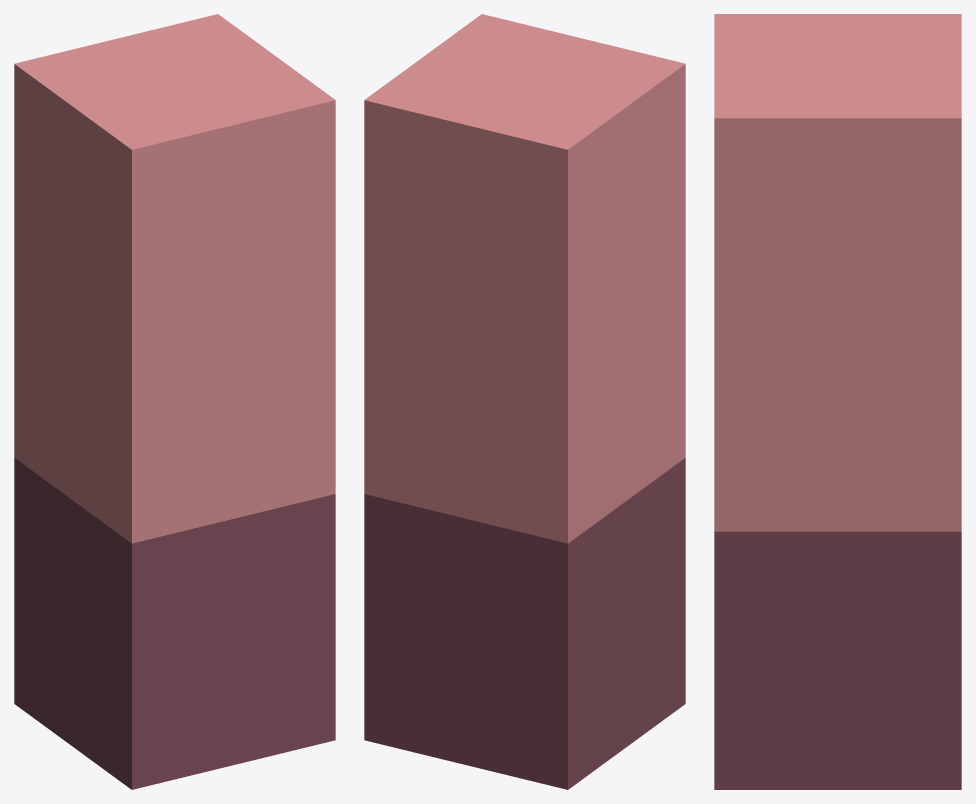
The model's file is Res01_Kitchen_Pillar.fbx.
3 renders of one model, left to right at view 1: azimuth 30°, elevation 25°; view 2: azimuth 150°, elevation 25°; view 3: azimuth 270°, elevation 25°, orthographic. The views are drawn at different scales.
Parts seen in each view (by area): view 1: Res01_Kitchen_Pillar; view 2: Res01_Kitchen_Pillar; view 3: Res01_Kitchen_Pillar.
Boxes of the visible parts, x1,y1,x2,y2 form: Res01_Kitchen_Pillar: (14, 14, 335, 789); Res01_Kitchen_Pillar: (364, 14, 685, 789); Res01_Kitchen_Pillar: (714, 14, 961, 789).
Bounding box in the file's own units: 100 × 300 × 100.
